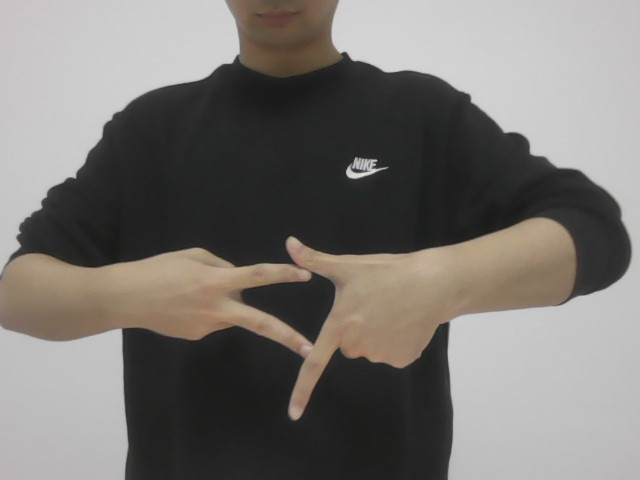introduce: (123, 227, 446, 426)
